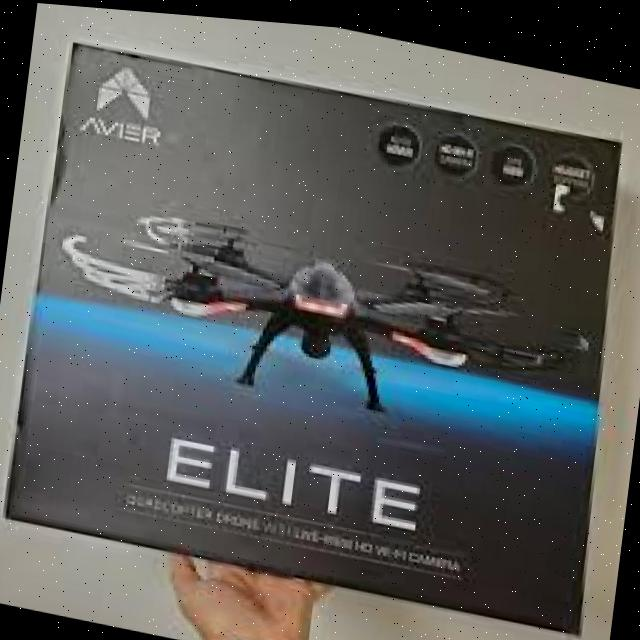drone: (46, 160, 601, 451)
